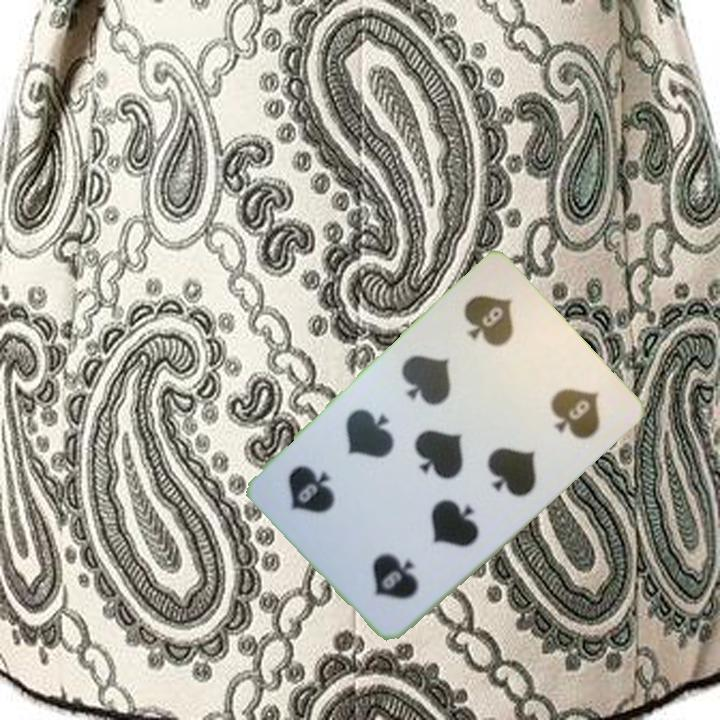s_9.png: (325, 498, 453, 627), (434, 269, 562, 398)
